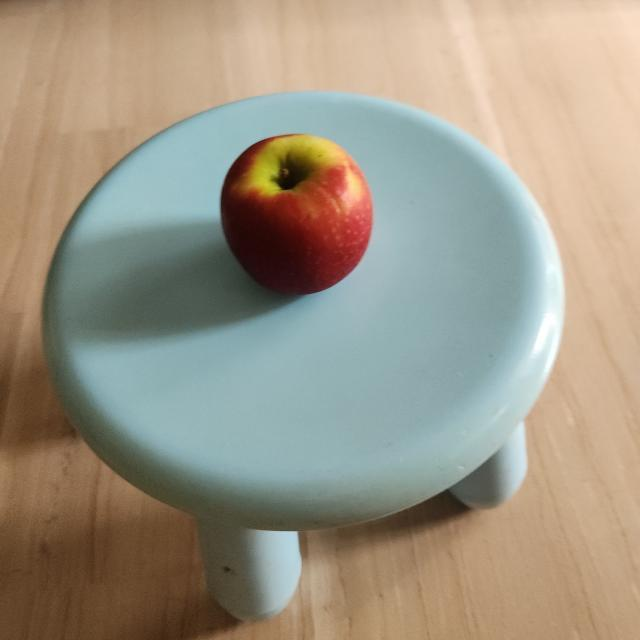apple: (216, 126, 374, 300)
